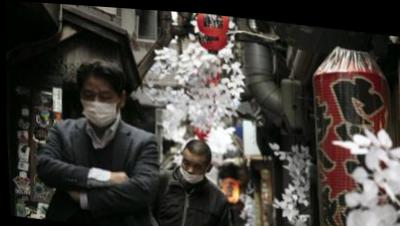OK: (80, 83, 119, 127)
WRONG: (179, 155, 204, 183)
